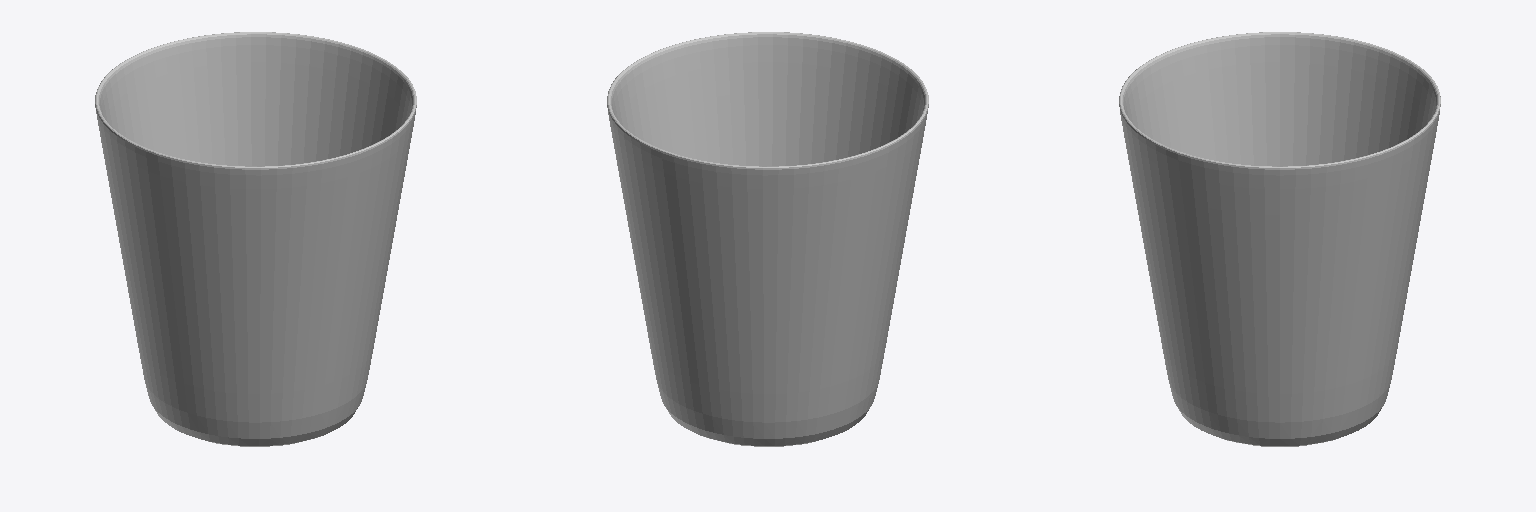
Rendered from water2.obj.
3 renders of one model, left to right at view 1: azimuth 30°, elevation 25°; view 2: azimuth 150°, elevation 25°; view 3: azimuth 270°, elevation 25°, orthographic.
Parts seen in each view (by area): view 1: Circle; view 2: Circle; view 3: Circle.
Boxes of the visible parts, x1,y1,x2,y2 form: Circle: [95, 32, 416, 446]; Circle: [607, 32, 928, 446]; Circle: [1119, 32, 1440, 446].
Size of the model in its own units: 3.19 by 3.42 by 3.19.